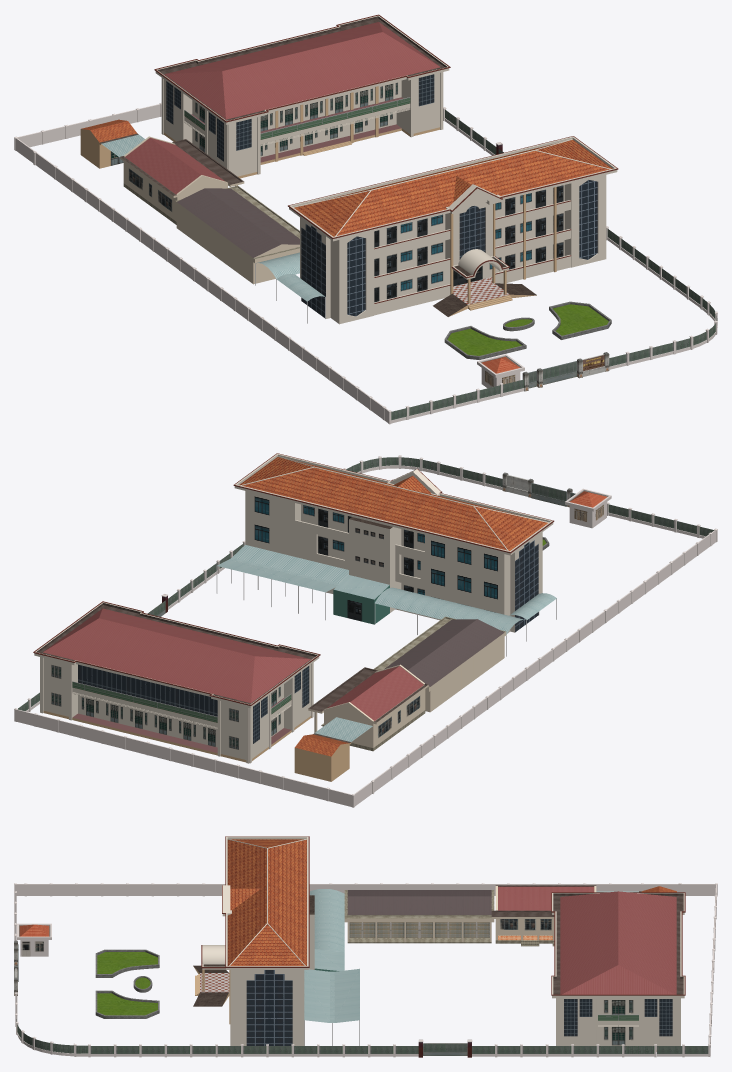
File: So Giao duc va Dao tao Binh Phuoc.glb
The picture shows the model from 3 angles, top to bottom: view 1: azimuth 30°, elevation 25°; view 2: azimuth 150°, elevation 25°; view 3: azimuth 270°, elevation 25°; orthographic projection. The views are drawn at different scales.
Visible parts, largest first — view 1: BPH072_2, BPH073_3, BPH073_4, BPH073_1, BPH073_1.001; view 2: BPH072_2, BPH073_3, BPH073_1, BPH073_4; view 3: BPH072_2, BPH073_3, BPH073_1, BPH073_4, BPH073_1.001.
Boxes of the visible parts, x1,y1,x2,y2 form: BPH072_2: (255,136,618,324); BPH073_3: (154,14,450,178); BPH073_4: (80,119,299,284); BPH073_1: (14,103,717,424); BPH073_1.001: (444,301,611,359); BPH072_2: (216,453,556,656); BPH073_3: (33,601,320,763); BPH073_1: (14,455,717,807); BPH073_4: (294,616,506,781); BPH072_2: (193,836,359,1045); BPH073_3: (551,891,685,1051); BPH073_1: (14,883,717,1057); BPH073_4: (344,885,676,946); BPH073_1.001: (95,949,159,1018).
Size of the model in its own units: 45.15 by 13.05 by 82.45.
4 materials, 4 textured.
